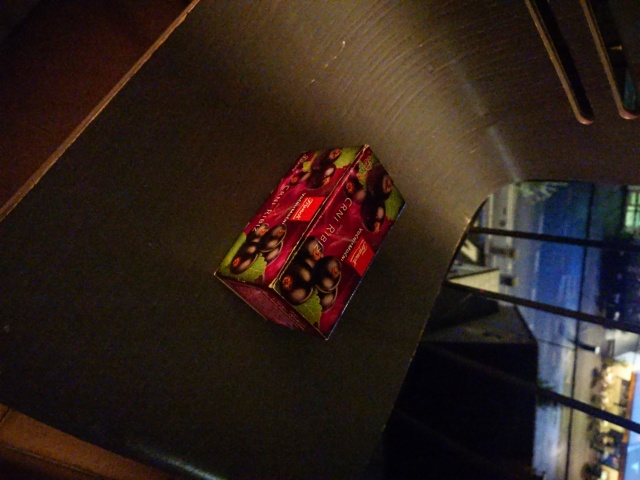Franck Black Currant Tea 60g: (210, 142, 409, 343)
